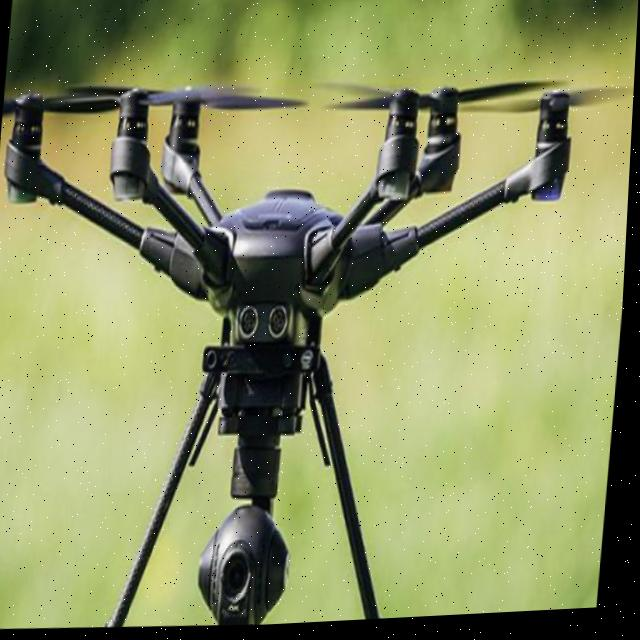drones: (0, 41, 637, 640)
